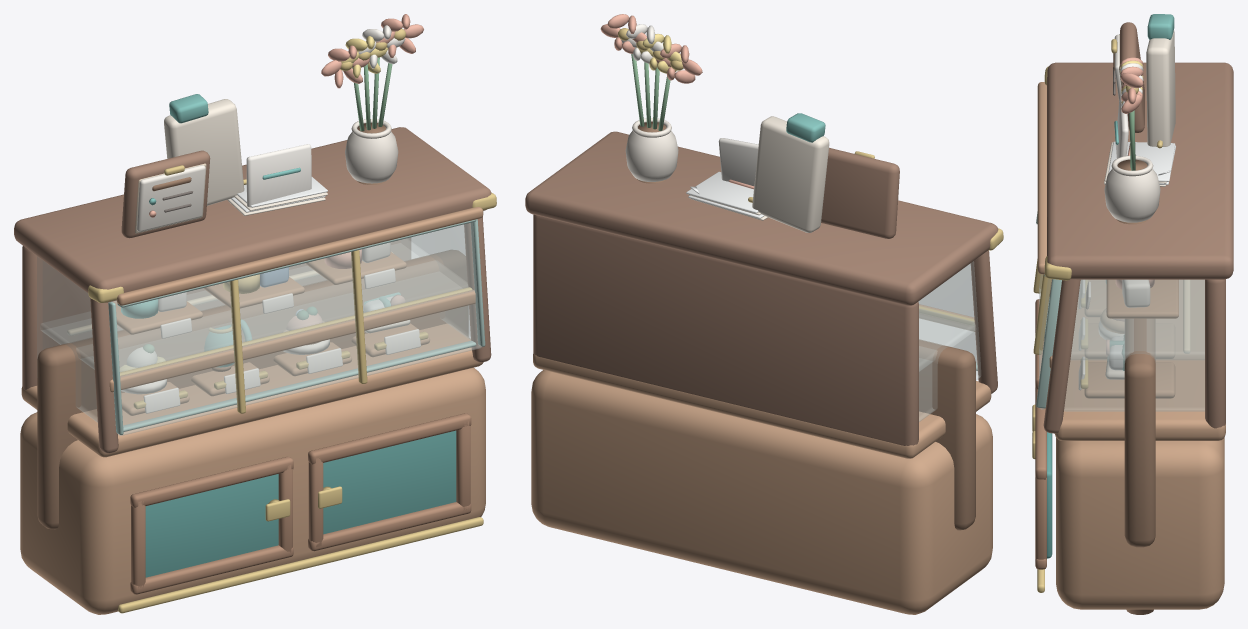
The model's file is civic-display-case.glb.
3 views of the same model, side by side, from view 1: azimuth 30°, elevation 25°; view 2: azimuth 150°, elevation 25°; view 3: azimuth 270°, elevation 25° (orthographic). The views are drawn at different scales.
Visible parts, largest first — view 1: DisplayFrontGlass, DisplayOakBase, DisplayCaseTop, DisplayWalnutPlinth, DisplayCaseFloor, DisplayInset_-1, DisplayShelf, DisplayInset_1, DisplayCaseBack, DisplaySideGlass_-0.84, DisplayShelfOakLip, DisplayTopOakReveal (+34 smaller); view 2: DisplayOakBase, DisplayCaseBack, DisplayCaseTop, DisplayWalnutPlinth, DisplayArchiveFolder, DisplayCaseFloor, DisplayMenuFrame, DisplaySideGlass_-0.84, DisplayPost_-0.86, DisplayTopVase_body, DisplayFrontGlass, DisplayShelf (+3 smaller); view 3: DisplayCaseTop, DisplayOakBase, DisplaySideGlass_0.84, DisplayCaseFloor, DisplayWalnutPlinth, DisplayShelf, DisplayCaseBack, DisplayArchiveFolder, DisplayPost_0.86, DisplayTopVase_body, DisplayUpperTray_3, DisplayTopOakReveal (+22 smaller).
Boxes of the visible parts, box(x1,y1,x2,y2) form: DisplayFrontGlass: box(110, 222, 481, 435); DisplayOakBase: box(20, 367, 485, 614); DisplayCaseTop: box(14, 127, 491, 302); DisplayWalnutPlinth: box(37, 250, 468, 529); DisplayCaseFloor: box(21, 323, 483, 457); DisplayInset_-1: box(145, 474, 278, 577); DisplayShelf: box(40, 242, 462, 371); DisplayInset_1: box(323, 430, 456, 534); DisplayCaseBack: box(22, 238, 410, 389); DisplaySideGlass_-0.84: box(37, 256, 97, 422); DisplayShelfOakLip: box(109, 290, 475, 392); DisplayTopOakReveal: box(116, 207, 483, 305); DisplayOakBase: box(531, 370, 992, 614); DisplayCaseBack: box(533, 214, 918, 445); DisplayCaseTop: box(525, 131, 998, 305); DisplayWalnutPlinth: box(919, 339, 975, 530); DisplayArchiveFolder: box(752, 116, 829, 232); DisplayCaseFloor: box(533, 353, 991, 458); DisplayMenuFrame: box(821, 147, 899, 238); DisplaySideGlass_-0.84: box(918, 261, 980, 421); DisplayPost_-0.86: box(970, 250, 997, 393); DisplayTopVase_body: box(625, 127, 678, 181); DisplayFrontGlass: box(919, 264, 976, 362); DisplayShelf: box(919, 308, 975, 371); DisplayCaseTop: box(1047, 62, 1233, 279); DisplayOakBase: box(1056, 437, 1224, 609); DisplaySideGlass_0.84: box(1064, 279, 1204, 411); DisplayCaseFloor: box(1055, 280, 1225, 440); DisplayWalnutPlinth: box(1124, 318, 1155, 547); DisplayShelf: box(1071, 280, 1204, 359); DisplayCaseBack: box(1205, 279, 1225, 428); DisplayArchiveFolder: box(1146, 30, 1175, 146); DisplayPost_0.86: box(1043, 279, 1080, 433); DisplayTopVase_body: box(1104, 168, 1160, 222); DisplayUpperTray_3: box(1106, 279, 1178, 318); DisplayTopOakReveal: box(1037, 82, 1046, 274).
Bounding box in the file's own units: 1.96 × 2.23 × 0.776.
